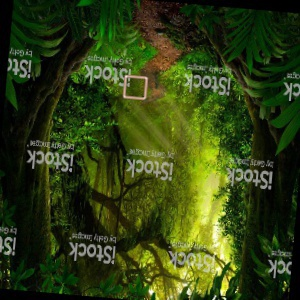square: (120, 71, 150, 102)
